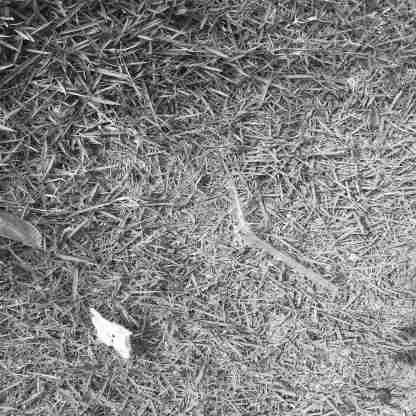plastic: (78, 308, 137, 362)
